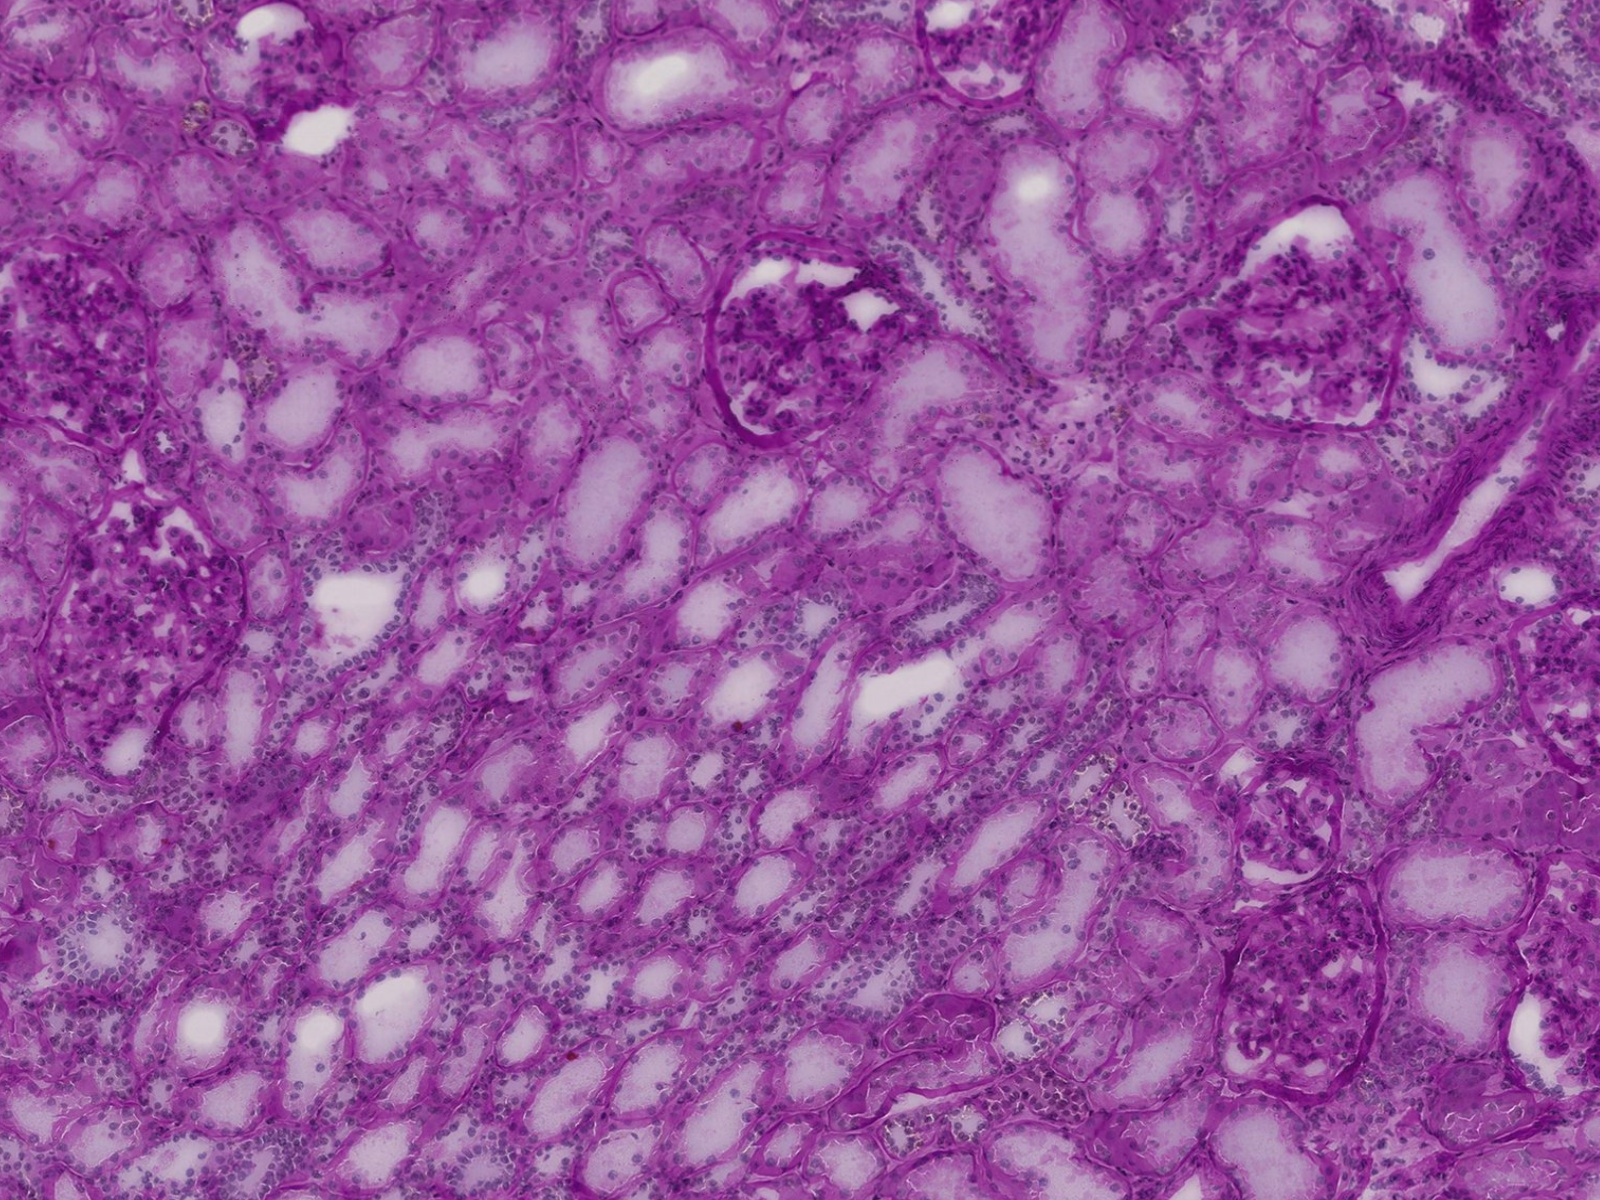Glomeruli: (37, 482, 254, 779), (1204, 202, 1410, 437), (700, 250, 945, 444), (1204, 879, 1392, 1108), (1, 232, 171, 455), (1495, 855, 1592, 1102), (1500, 594, 1592, 788), (910, 5, 1051, 120)
